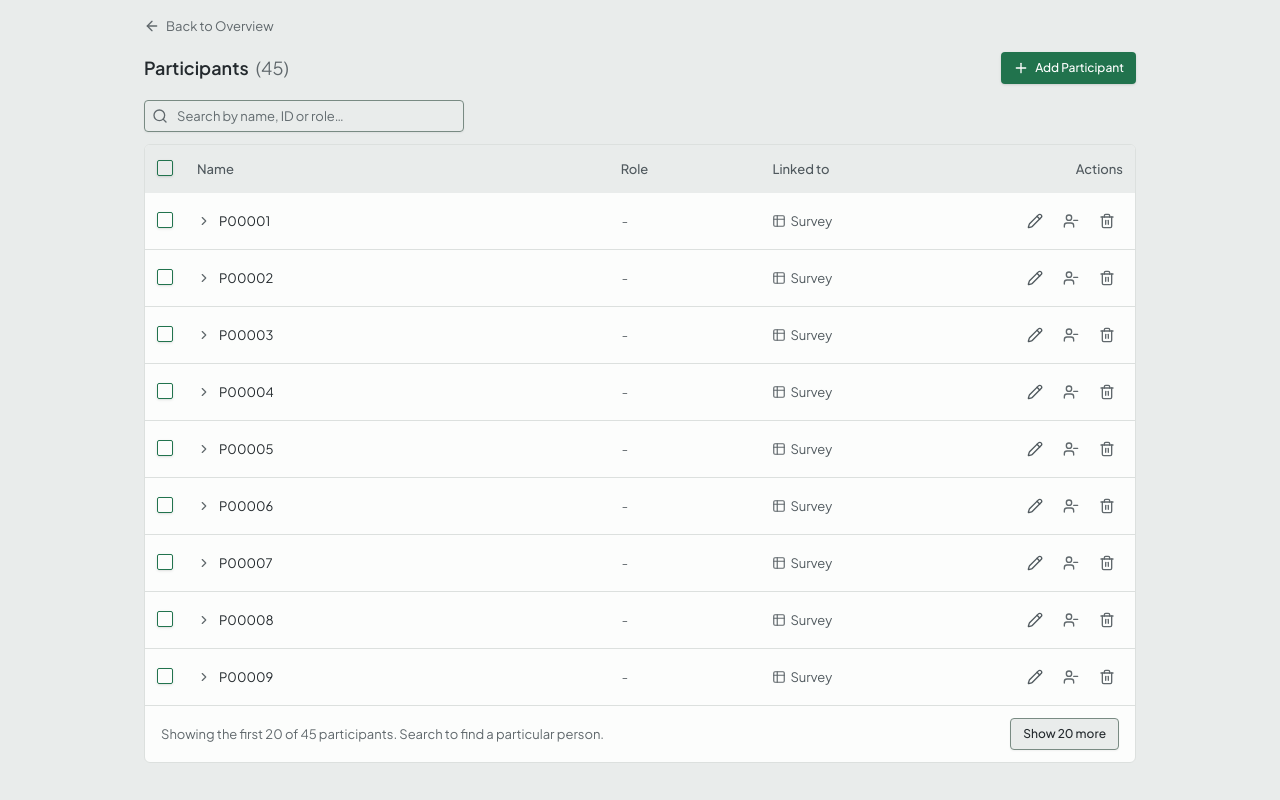
Test: #1052 — the Participants table is bounded › select-all takes the rows SHOWN, not the ones nobody can see
The image size is (1280, 800).
Expected: the text "P00001" is shown, [219,211,270,231]
Click the checkbox named "Select the 20 participants shown": (165,168) [157,160,173,176]
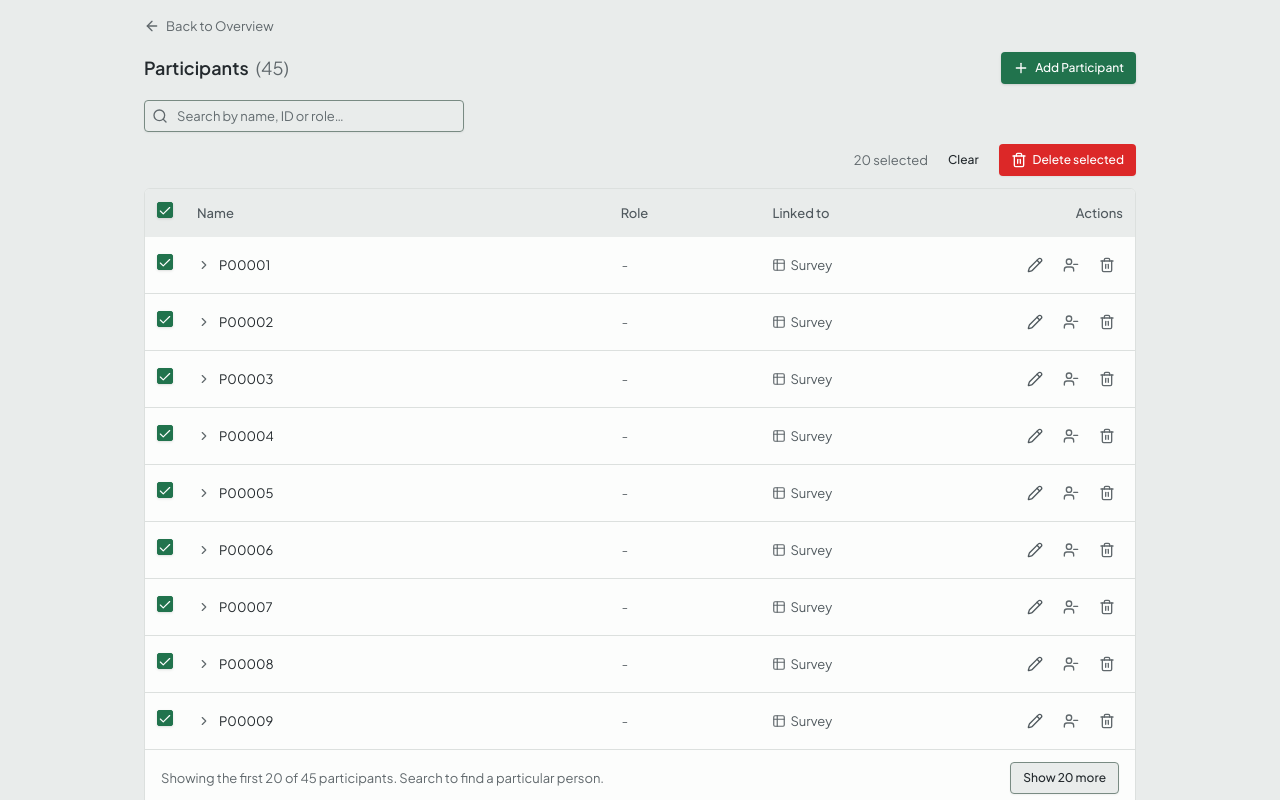
Expected: the text "20 selected" is shown, [854,150,928,170]
